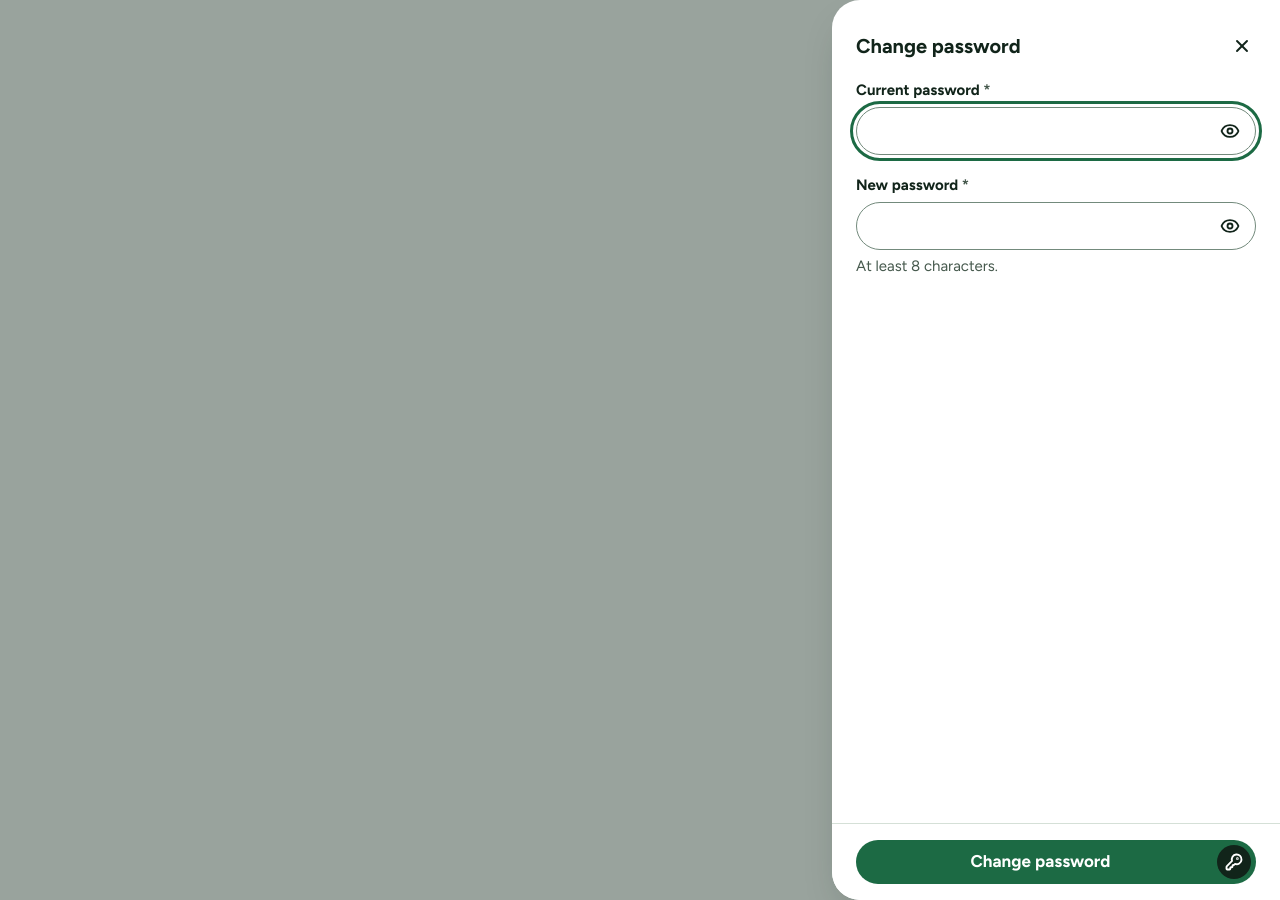
Test: ChangePasswordSheet › says beside the current password when it is not right
This screenshot has width=1280, height=900.
In the password field labelled "Current password *": (1056, 131) [856,107,1256,155], type "wrong"
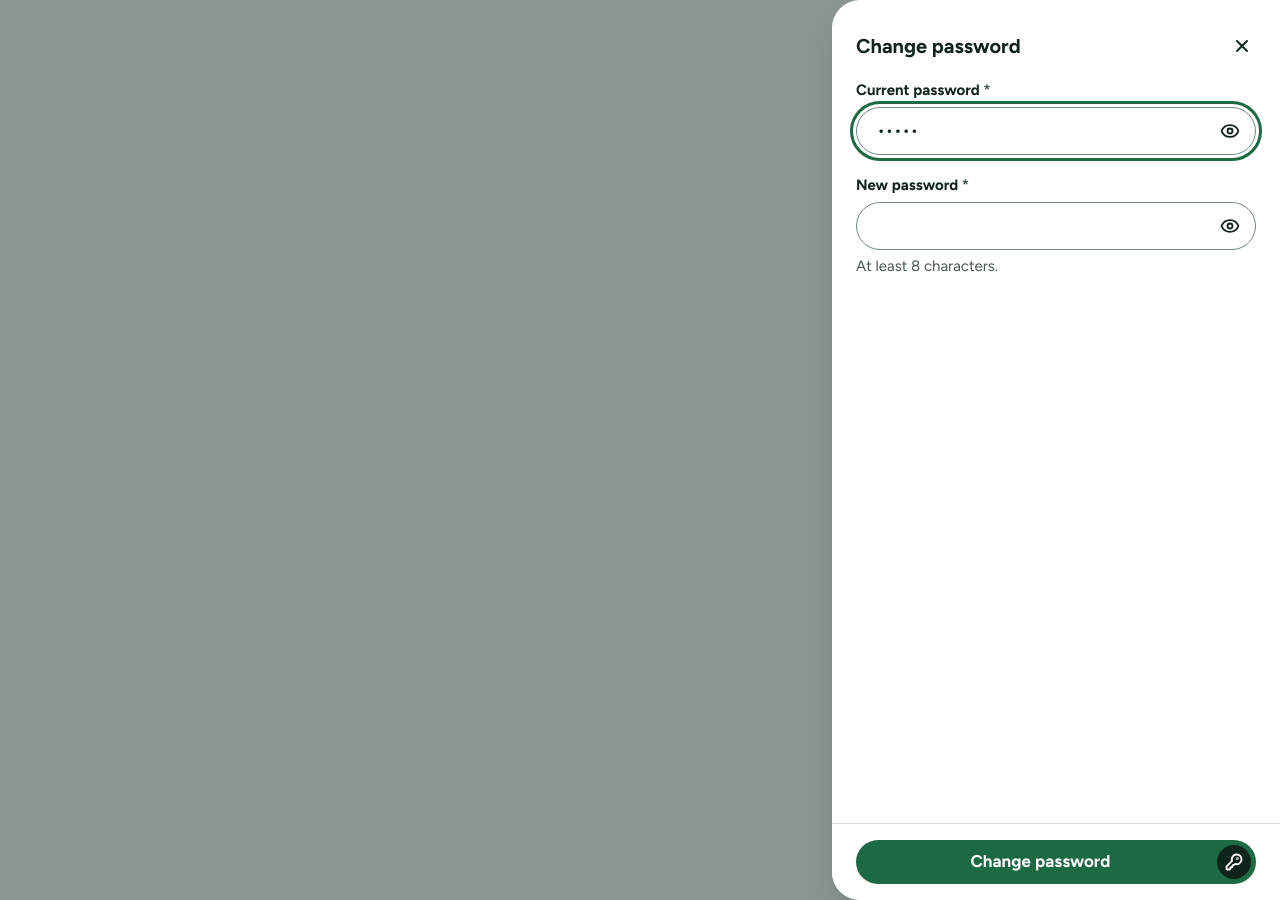
In the password field labelled "New password *": (1056, 226) [856,202,1256,250], type "a-new-password"
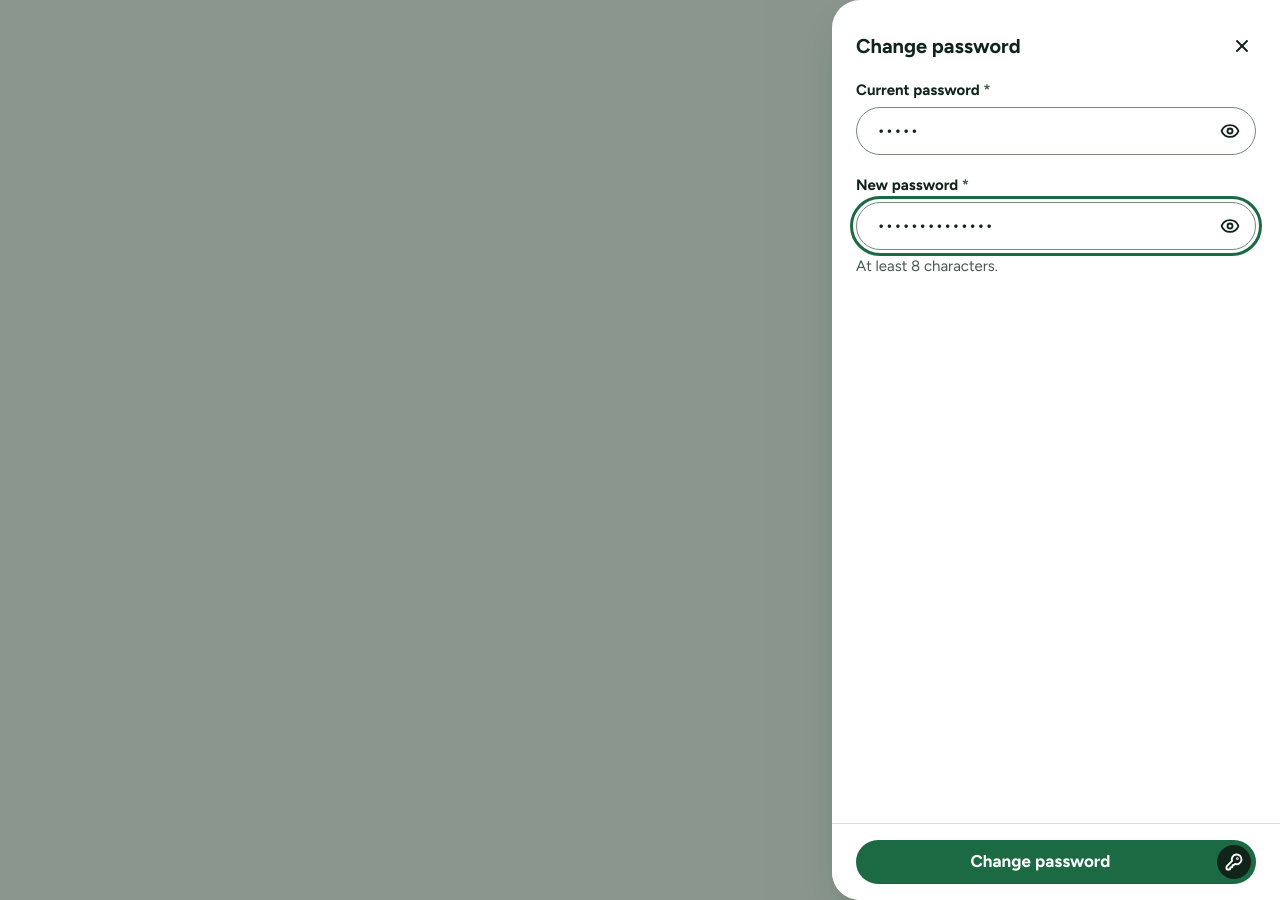
Click the button "Change password": (1056, 862) [856,840,1256,884]
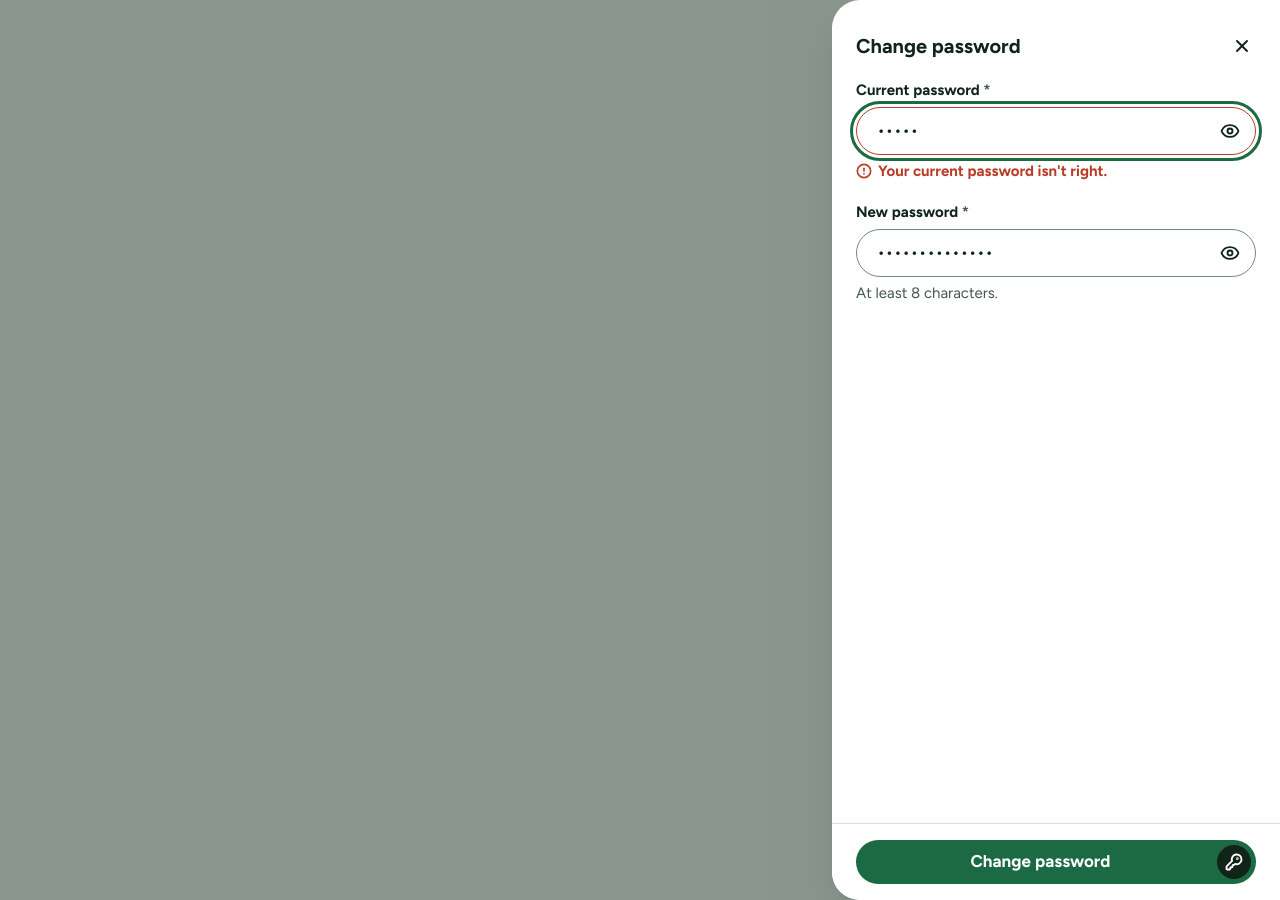
Result: the text "Your current password isn't right." is shown at [856,162,1107,180]
